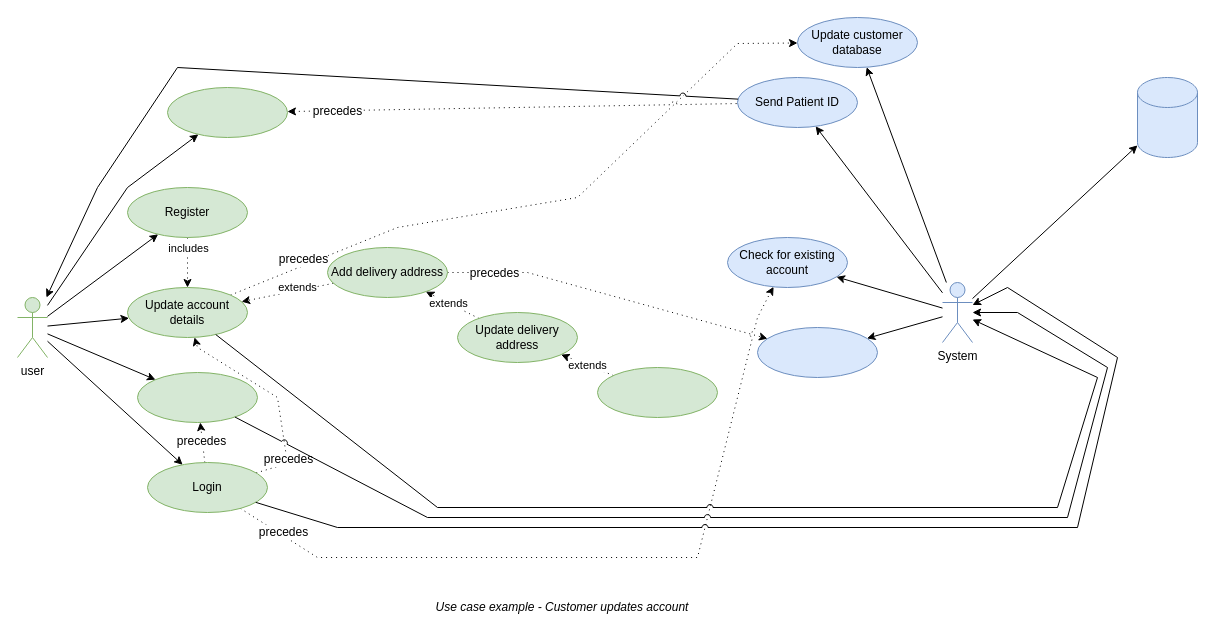
This 1215x635 diagram has some shape labels left out. Each missing label, with the centre of its shape:
DB: (x=1167, y=117)
Delete delivery address: (x=657, y=392)
Patients ID: (x=227, y=112)
Verify valid address: (x=817, y=352)
View account: (x=197, y=397)
